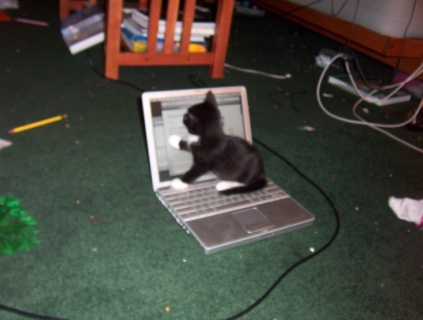Cat: (169, 89, 269, 197)
